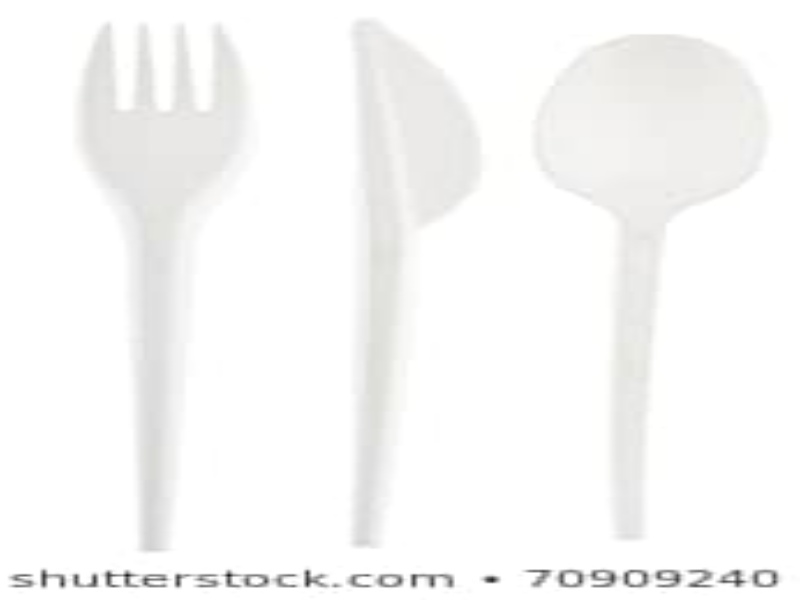plastic-silverware: (530, 31, 774, 543), (75, 17, 252, 554), (340, 13, 483, 554)
